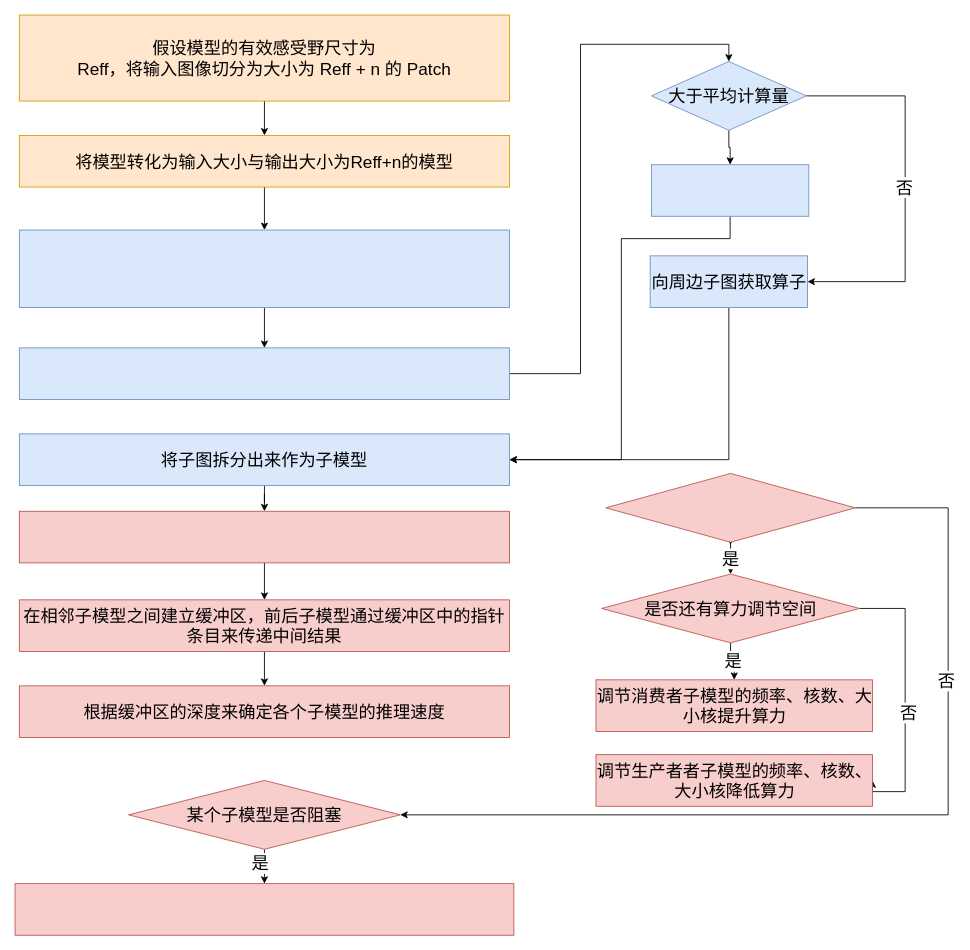
The diagram is 970 pixels wide and 950 high, and some of its shapes have lost their labels. Here are the shapes that lost their labels. From the top down, the centre of each, then its label:
(x=730, y=190): 向周边子图传递算子
(x=264, y=268): 根据算子的计算特性，来指定算子绑定的CPU、GPU、NPU，同时确保一段连续的算子形成一个子图并绑定在同一个硬件上
(x=264, y=373): 对比 各个子图计算量与平均子图计算量的大小
(x=730, y=507): 缓冲区深度是否超过阈值
(x=264, y=536): 为子模型备选一个算子亲和性较为合适的硬件
(x=264, y=909): 将子模型重新映射至备选硬件来解除阻塞
